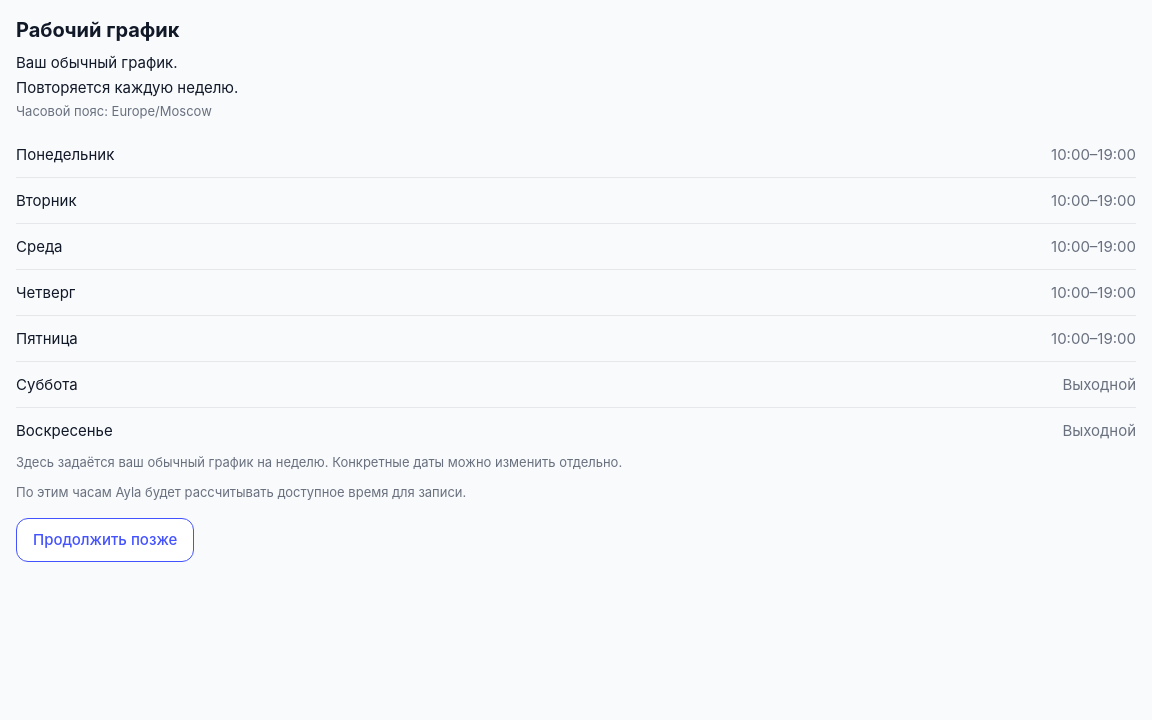
Test case: правка одного дня › «Другие часы» открываются рабочим интервалом мастера и пишут его
Check: the heading "Рабочий график" is shown, box [16,18,180,42]
Click the button with test id "day-5". click: (47, 385)
box: [16,362,1136,407]
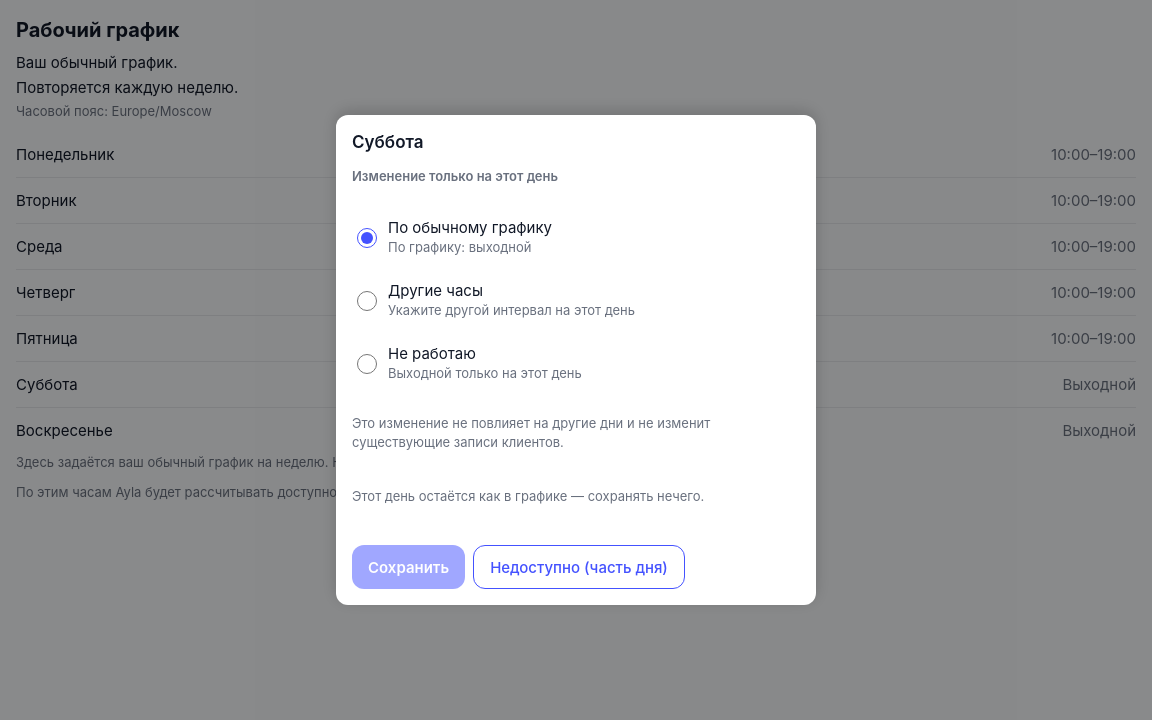
Click the radio button labelled "Другие часы Укажите другой интервал на этот день". click: (367, 301)
box: [357,291,377,311]
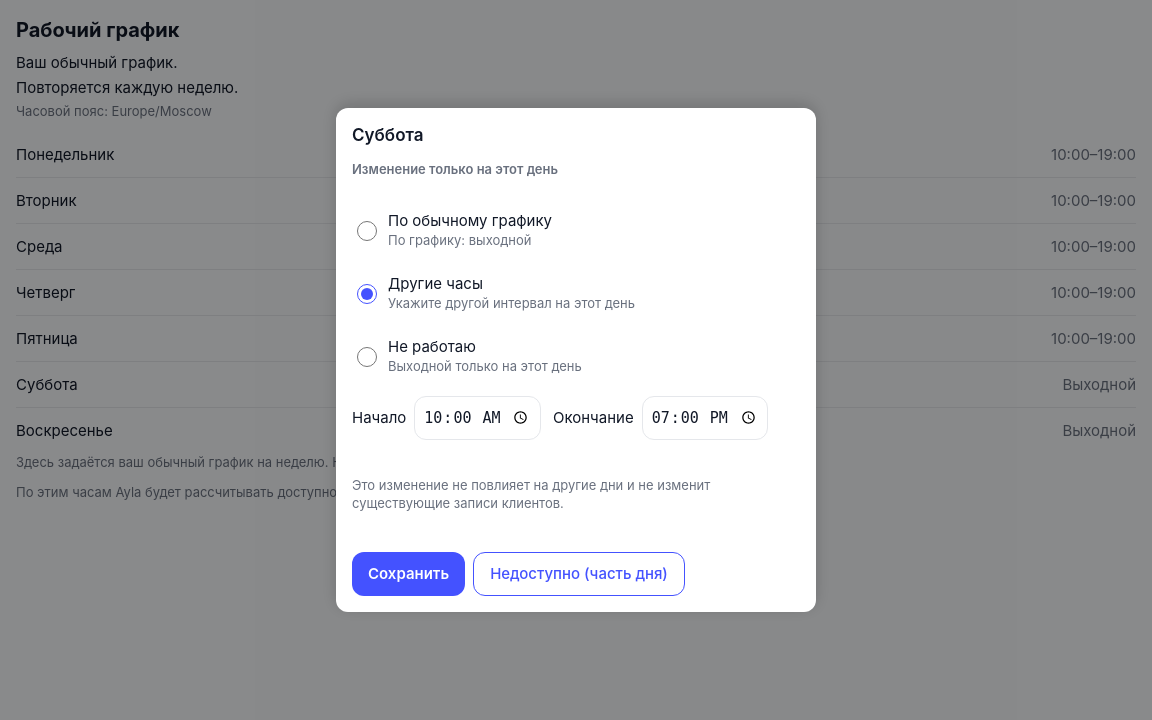
Check: the time field labelled "Начало" holds "10:00", box [414,396,541,440]
Replace the text in the time field labelled "Окончание" with "16:00". click: (705, 418)
box: [642,396,768,440]
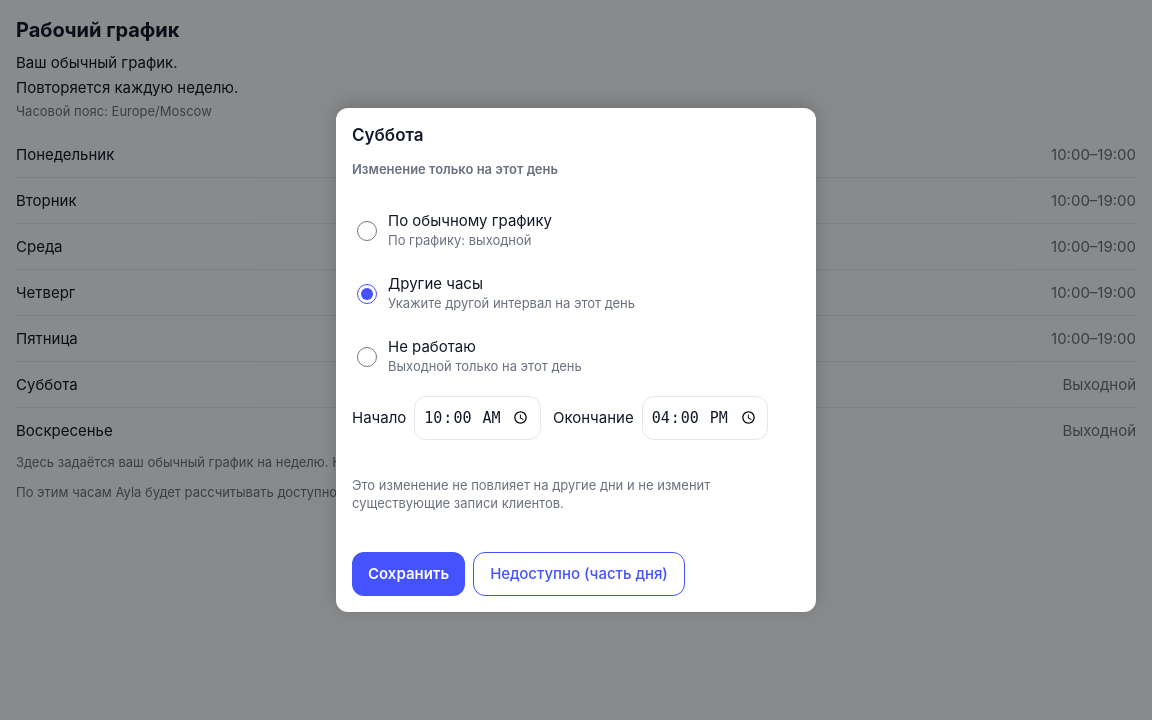
Click the button "Сохранить". click: (409, 574)
box: [352,552,465,596]
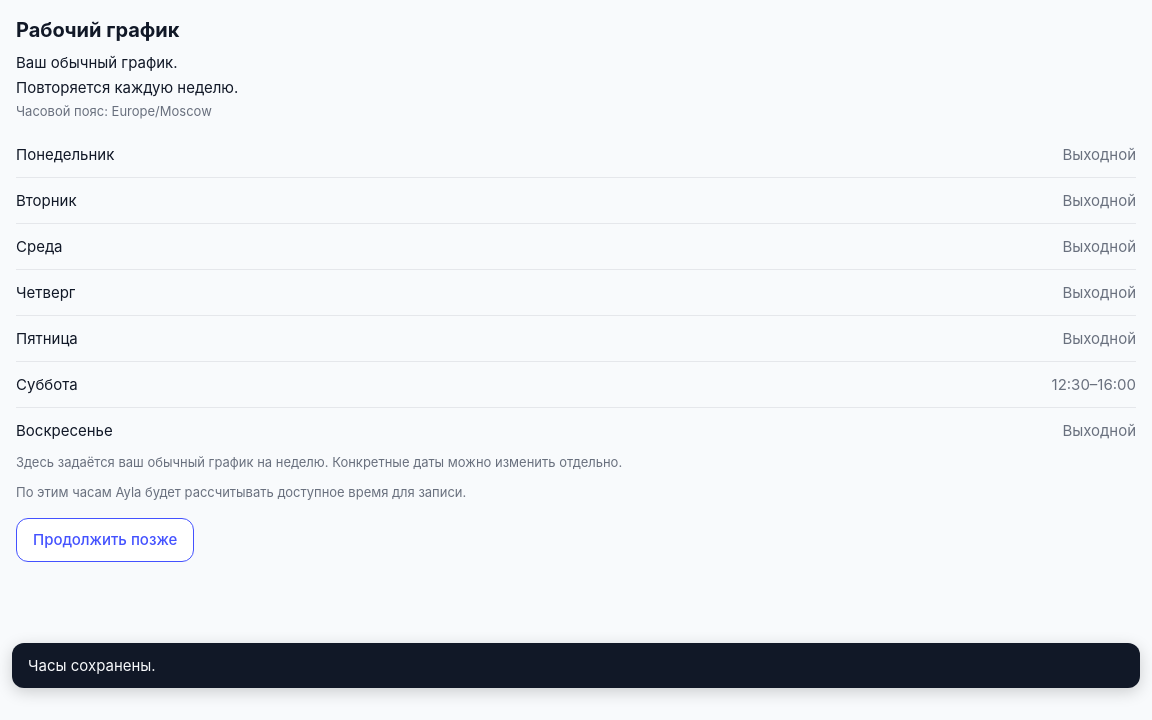
Check: the button with test id "day-5" shows "12:30–16:00", box [16,362,1136,407]
